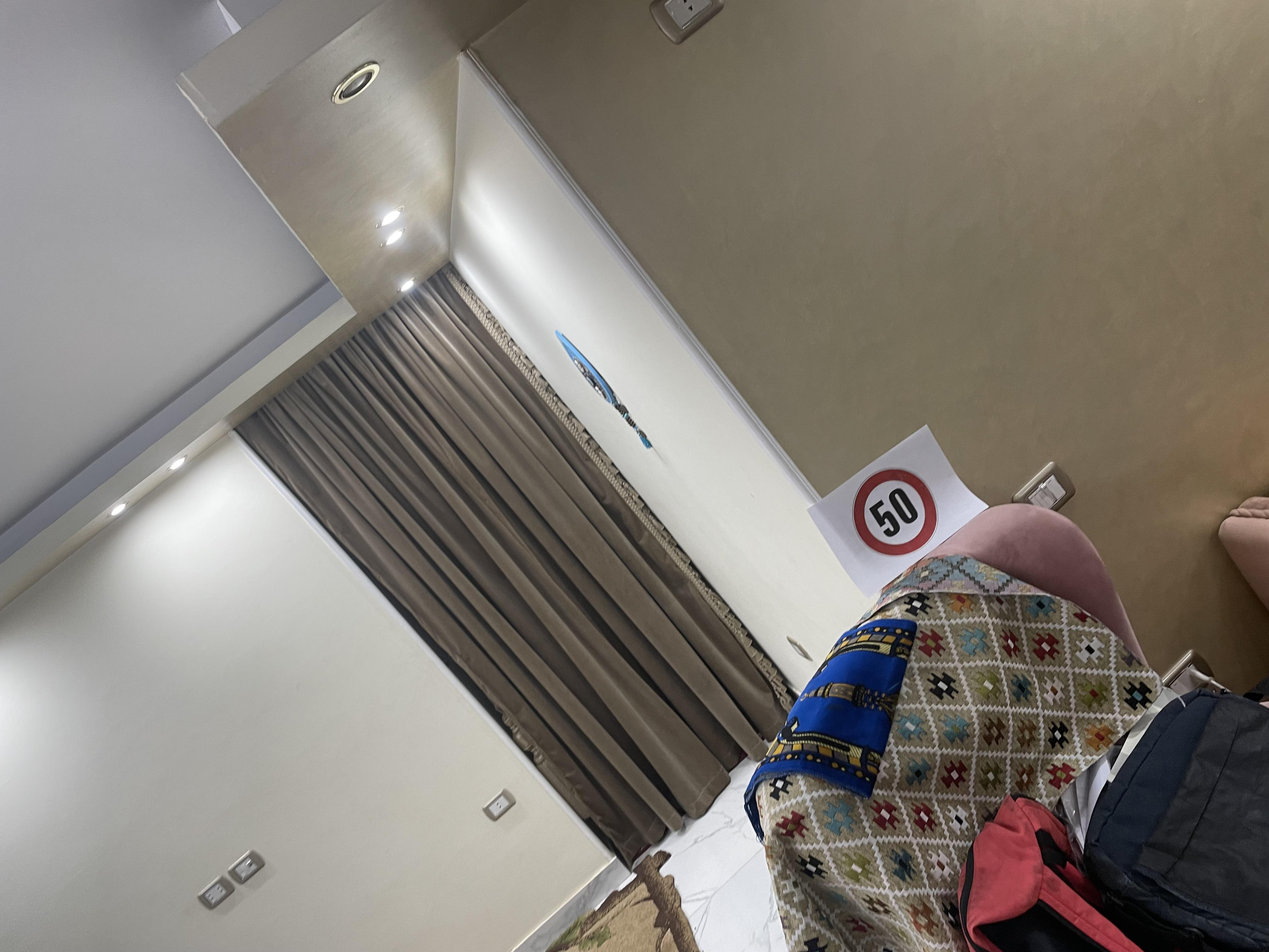50-Speed: (527, 639, 646, 702)
